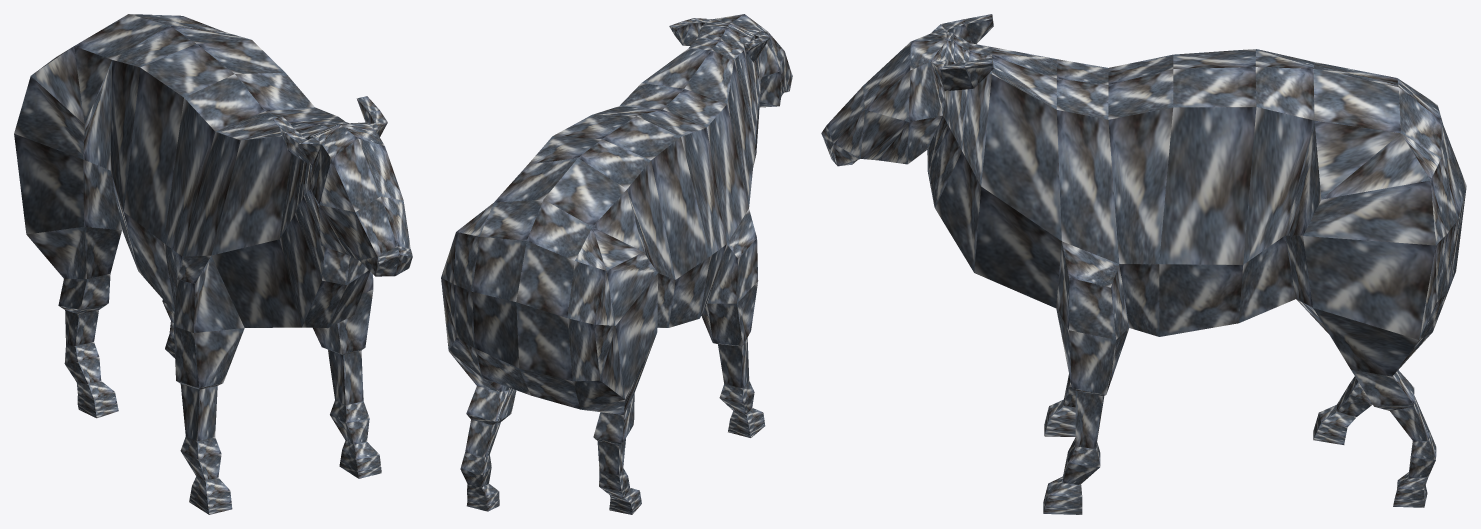
Rendered from SheepIdle_000079.obj.
3 renders of one model, left to right at view 1: azimuth 30°, elevation 25°; view 2: azimuth 150°, elevation 25°; view 3: azimuth 270°, elevation 25°, orthographic. The views are drawn at different scales.
Parts seen in each view (by area): view 1: Sheep_Cylinder; view 2: Sheep_Cylinder; view 3: Sheep_Cylinder.
Boxes of the visible parts, bbox=[...] form: Sheep_Cylinder: bbox=[14, 14, 412, 514]; Sheep_Cylinder: bbox=[441, 14, 792, 514]; Sheep_Cylinder: bbox=[821, 14, 1466, 514].
Size of the model in its own units: 2.22 by 4.39 by 5.92.
